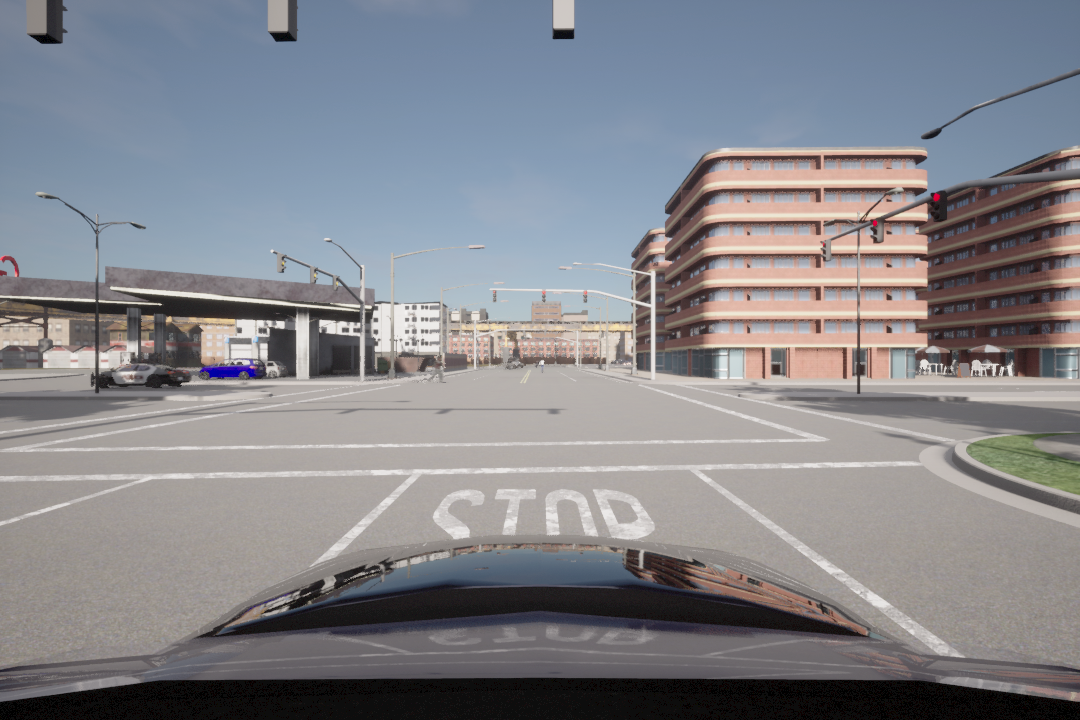TrafficLight: (924, 191, 951, 224), (869, 219, 887, 248), (821, 237, 835, 263), (274, 248, 287, 274), (307, 264, 320, 285), (331, 273, 341, 294), (490, 287, 499, 303), (540, 287, 548, 303), (582, 289, 589, 305)
